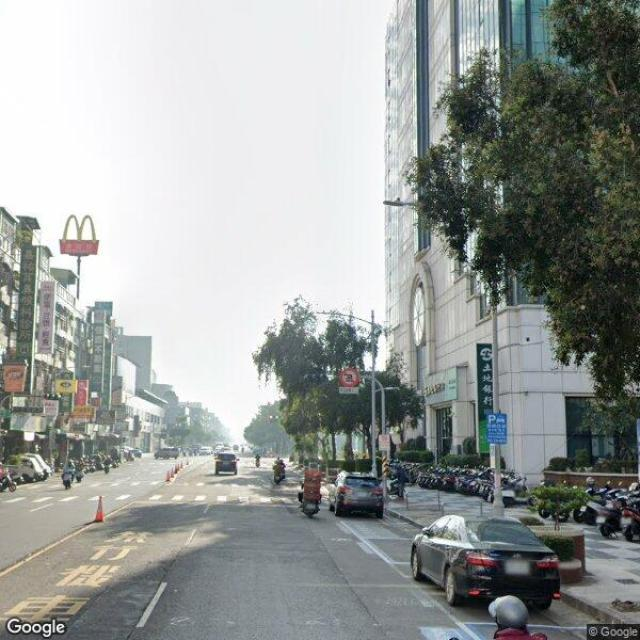Legalparking: (401, 496, 570, 614), (548, 453, 639, 541), (387, 444, 488, 492), (328, 474, 386, 518)
illegalparking: (17, 448, 51, 484)
